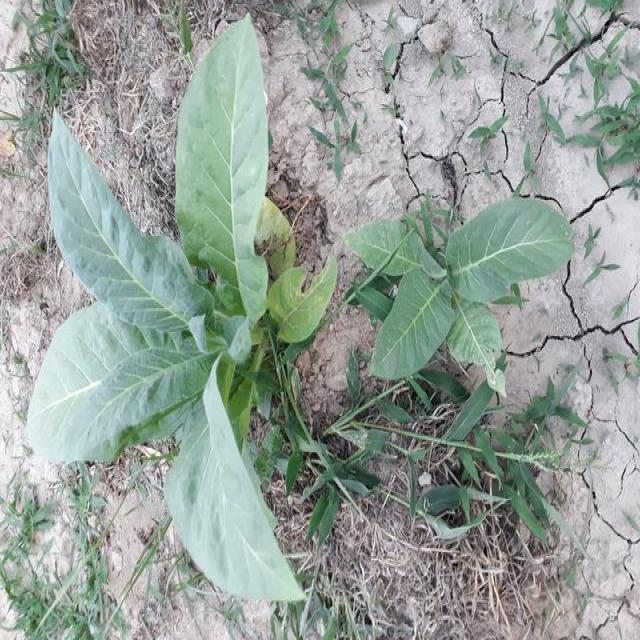crop: (28, 18, 341, 620)
